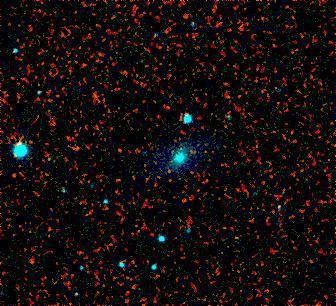star: (17, 247, 47, 277)
